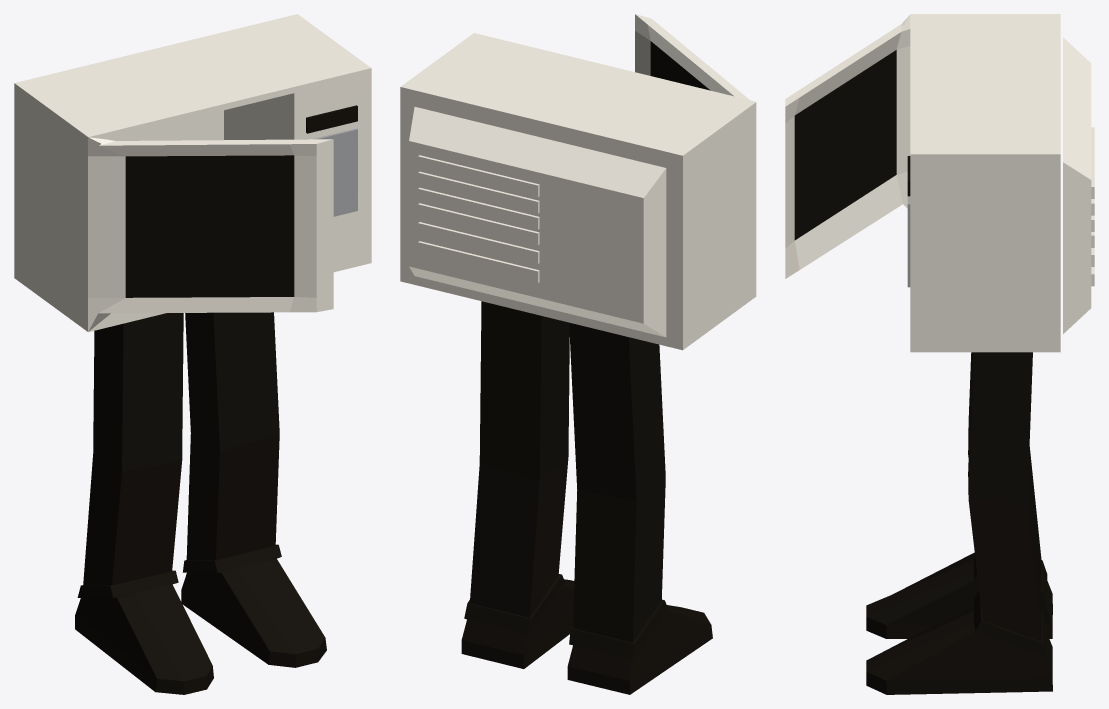
The model's file is MicrowaveMan.fbx.
The picture shows the model from 3 angles, left to right: view 1: azimuth 30°, elevation 25°; view 2: azimuth 150°, elevation 25°; view 3: azimuth 270°, elevation 25°; orthographic projection.
Parts seen in each view (by area): view 1: Cube, Cube.002, Cube.001; view 2: Cube, Cube.002, Cube.001; view 3: Cube, Cube.001, Cube.002.
Boxes of the visible parts, box(x1,y1,x2,y2) form: Cube: box(14, 14, 371, 332); Cube.002: box(75, 313, 213, 694); Cube.001: box(181, 312, 326, 667); Cube: box(400, 14, 756, 350); Cube.002: box(567, 322, 712, 694); Cube.001: box(461, 301, 574, 668); Cube: box(785, 14, 1094, 352); Cube.001: box(866, 352, 1052, 694); Cube.002: box(866, 352, 1052, 638).
Size of the model in its own units: 471 by 890 by 439.
